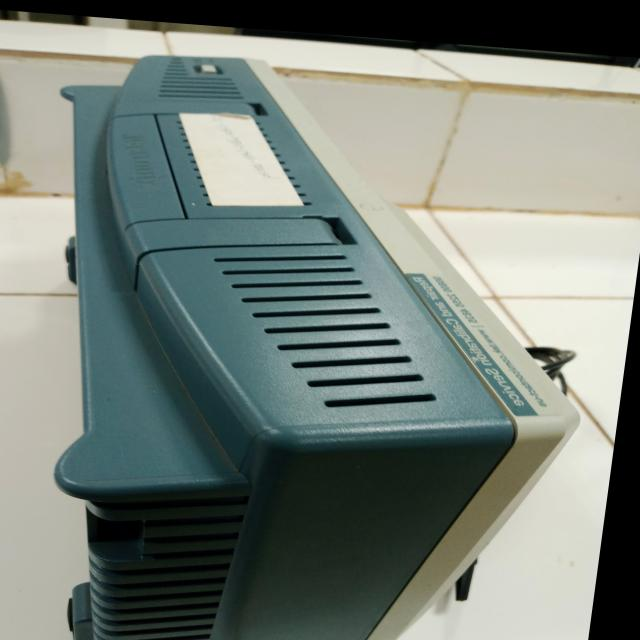Digital Oscilloscope: (0, 25, 640, 640)
